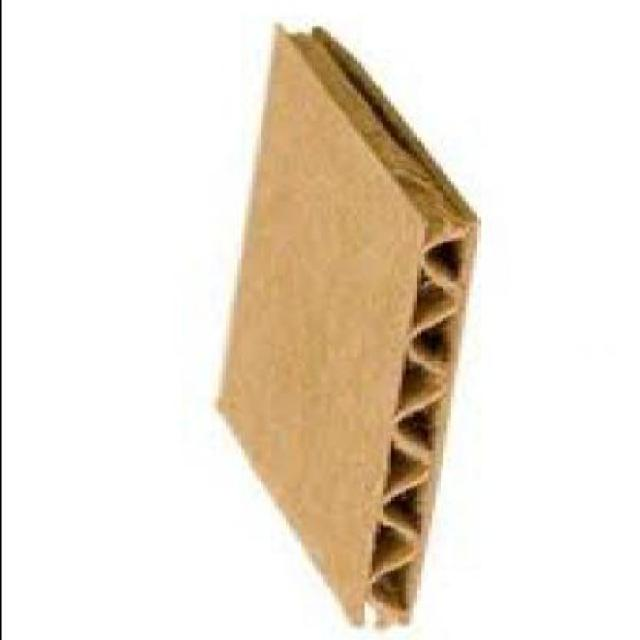cardboard: (211, 26, 475, 634)
